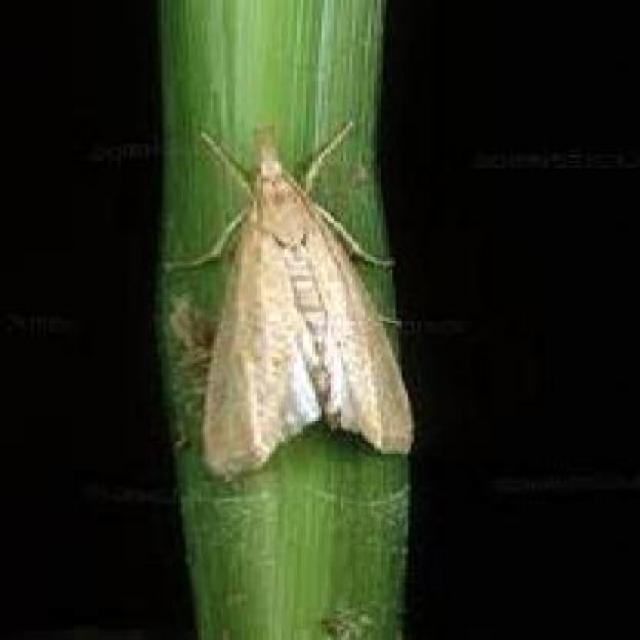stem-borer: (191, 128, 380, 483)
